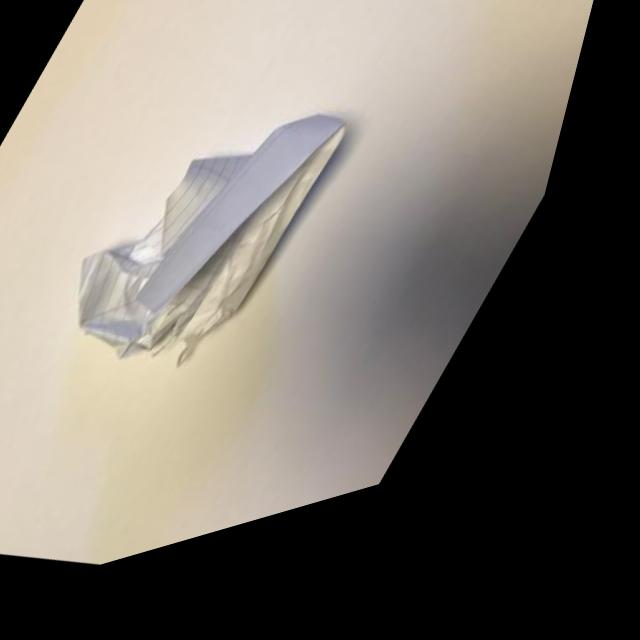paper: (0, 0, 473, 519)
